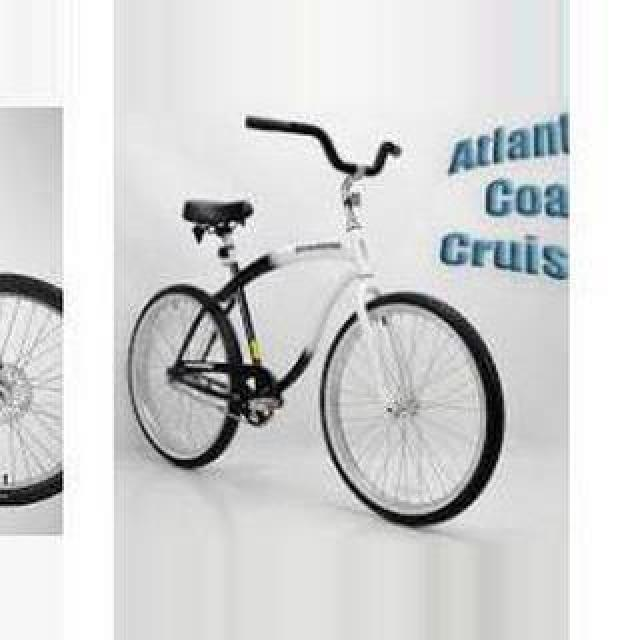Person: (124, 118, 508, 530)
